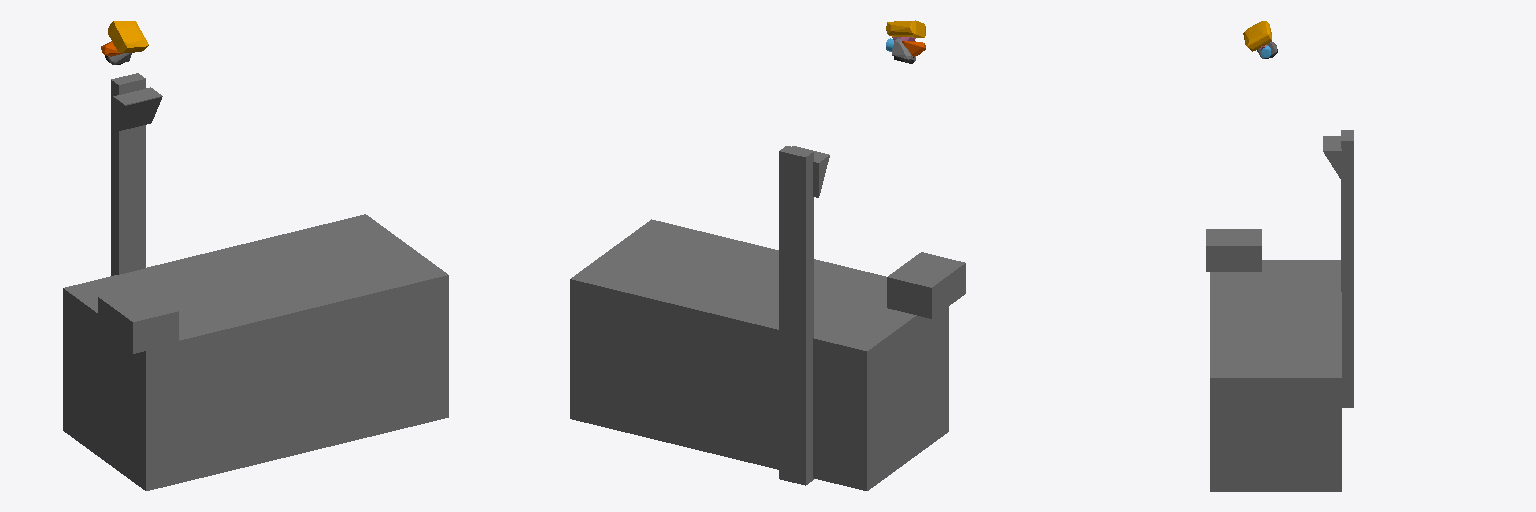
--- What the picture shows (computed from the rendered views, not written in the file) ---
Views: 3 orthographic renders of the robot side by side, from view 1: azimuth 30°, elevation 25°; view 2: azimuth 150°, elevation 25°; view 3: azimuth 270°, elevation 25°.
Robot: converging_polishing_workcell — 33 links, 32 joints (6 revolute, 26 fixed); root link world; default pose: every joint at zero.
Visible links, largest first — view 1: table, column, things_on_table, cuña_body, zivid_protective_housing; view 2: table, column, things_on_table, zivid_protective_housing, cuña_body; view 3: table, column, things_on_table, zivid_protective_housing, cuña_body.
Link boxes in pixels (<box>): table: <box>63,214,448,490</box>; column: <box>111,73,145,275</box>; things_on_table: <box>98,286,178,353</box>; cuña_body: <box>113,87,162,131</box>; zivid_protective_housing: <box>108,21,148,52</box>; table: <box>570,219,948,490</box>; column: <box>779,146,813,485</box>; things_on_table: <box>887,252,965,318</box>; zivid_protective_housing: <box>886,20,925,38</box>; cuña_body: <box>792,146,829,197</box>; table: <box>1210,260,1341,491</box>; column: <box>1341,130,1353,407</box>; things_on_table: <box>1206,229,1261,271</box>; zivid_protective_housing: <box>1243,21,1271,51</box>; cuña_body: <box>1323,136,1341,178</box>.
Bounding box of the posed robot: 2.1 × 1.06 × 2.82 m (x, y, z).
Meshes: 15 distinct files referenced, 8 mesh visuals loaded (8 binary STL); not drawn: 7 (reference not matched to a file when rendering).

The robot description file, URDF, robot "converging_polishing_workcell":
<?xml version="1.0" ?>
<!-- =================================================================================== -->
<!-- |    This document was autogenerated by xacro from /opt/ros/converging_noether_demo-noetic/share/converging_polishing_workcell/urdf/converging_polishing_workcell.xacro | -->
<!-- |    EDITING THIS FILE BY HAND IS NOT RECOMMENDED                                 | -->
<!-- =================================================================================== -->
<robot name="converging_polishing_workcell">
  <!-- <xacro:include filename="$(find robotnik_sensors)/urdf/intel_d435.urdf.xacro"/>
  <xacro:include filename="$(find robotnik_sensors)/urdf/utils/inertia.urdf.xacro"/>
  <xacro:include filename="$(find robotnik_sensors)/urdf/utils/material.urdf.xacro"/> -->
  <link name="world"/>
  <link name="table">
    <visual>
      <geometry>
        <box size="2.0 0.95 0.9"/>
      </geometry>
      <origin rpy="0 0 0" xyz="0.00 0.0 -0.45"/>
      <material name="gray">
        <color rgba="0.5 0.5 0.5 1"/>
      </material>
    </visual>
    <collision>
      <geometry>
        <box size="2.0 0.95 0.9"/>
      </geometry>
      <origin rpy="0 0 0" xyz="0.00 0.0 -0.45"/>
    </collision>
  </link>
  <link name="column">
    <visual>
      <geometry>
        <box size="0.18 0.09 2.11"/>
      </geometry>
      <origin rpy="0 0 0" xyz="0.00 -0.042 0.141"/>
      <material name="gray">
        <color rgba="0.5 0.5 0.5 1"/>
      </material>
    </visual>
    <collision>
      <geometry>
        <box size="0.18 0.09 2.11"/>
      </geometry>
      <origin rpy="0 0 0" xyz="0.00 -0.042 0.141"/>
    </collision>
  </link>
  <joint name="column" type="fixed">
    <parent link="table"/>
    <child link="column"/>
    <origin xyz="0.545 -.4725  0"/>
  </joint>
  <joint name="table" type="fixed">
    <parent link="world"/>
    <child link="table"/>
    <origin rpy="0 0 3.141592653589793" xyz="1.0030000000000001 0.41100000000000003 0"/>
  </joint>
  <joint name="cuña" type="fixed">
    <parent link="column"/>
    <child link="cuña_base_link"/>
    <!-- height of column - height from top of column to top of cuña -->
    <origin rpy="-1.5707963267948966 -1.5707963267948966 0" xyz="0 0 1.133"/>
  </joint>
  <link name="cuña_base_link"/>
  <link name="cuña_body">
    <visual>
      <geometry>
        <mesh filename="package://converging_polishing_workcell/meshes/collision/cuña.stl" scale="0.001 0.001 0.001"/>
      </geometry>
      <material name="gray">
        <color rgba="0.5 0.5 0.5 1"/>
      </material>
    </visual>
    <collision>
      <geometry>
        <mesh filename="package://converging_polishing_workcell/meshes/collision/cuña.stl" scale="0.001 0.001 0.001"/>
      </geometry>
    </collision>
    <inertial>
      <mass value="50.0"/>
      <inertia ixx="10.00" ixy="0.00" ixz="0.00" iyy="10.00" iyz="0.00" izz="10.00"/>
      <origin rpy="0 0 0" xyz="0.0 0.0 -0.5"/>
    </inertial>
  </link>
  <joint name="cuña_body" type="fixed">
    <parent link="cuña_base_link"/>
    <child link="cuña_body"/>
    <origin rpy="0 -1.5707963267948966 0" xyz="0 0 0"/>
  </joint>
  <link name="cuña_tool0"/>
  <joint name="cuña_tool0" type="fixed">
    <parent link="cuña_body"/>
    <child link="cuña_tool0"/>
    <origin rpy="0 1.0471975511965976 0" xyz="0.07250000000000001 0 0.11674682452694517"/>
  </joint>
  <!--
    Base UR robot series xacro macro.

    NOTE: this is NOT a URDF. It cannot directly be loaded by consumers
    expecting a flattened '.urdf' file. See the top-level '.xacro' for that
    (but note: that .xacro must still be processed by the xacro command).

    For use in '.launch' files: use one of the 'load_urX.launch' convenience
    launch files.

    This file models the base kinematic chain of a UR robot, which then gets
    parameterised by various configuration files to convert it into a UR3(e),
    UR5(e), UR10(e) or UR16e.

    NOTE: the default kinematic parameters (ie: link lengths, frame locations,
    offets, etc) do not correspond to any particular robot. They are defaults
    only. There WILL be non-zero offsets between the Forward Kinematics results
    in TF (ie: robot_state_publisher) and the values reported by the Teach
    Pendant.

    For accurate (and robot-specific) transforms, the 'kinematics_parameters_file'
    parameter MUST point to a .yaml file containing the appropriate values for
    the targetted robot.

    If using the UniversalRobots/Universal_Robots_ROS_Driver, follow the steps
    described in the readme of that repository to extract the kinematic
    calibration from the controller and generate the required .yaml file.

    Main author of the migration to yaml configs: Ludovic Delval.

    Contributors to previous versions (in no particular order):

     - Felix Messmer
     - Kelsey Hawkins
     - Wim Meeussen
     - Shaun Edwards
     - Nadia Hammoudeh Garcia
     - Dave Hershberger
     - G. vd. Hoorn
     - Philip Long
     - Dave Coleman
     - Miguel Prada
     - Mathias Luedtke
     - Marcel Schnirring
     - Felix von Drigalski
     - Felix Exner
     - Jimmy Da Silva
     - Ajit Krisshna N L
     - Muhammad Asif Rana
  -->
  <!--
    NOTE: the macro defined in this file is NOT part of the public API of this
          package. Users CANNOT rely on this file being available, or stored in
          this location. Nor can they rely on the existence of the macro.
  -->
  <transmission name="shoulder_pan_trans">
    <type>transmission_interface/SimpleTransmission</type>
    <joint name="shoulder_pan_joint">
      <hardwareInterface>hardware_interface/PositionJointInterface</hardwareInterface>
    </joint>
    <actuator name="shoulder_pan_motor">
      <mechanicalReduction>1</mechanicalReduction>
    </actuator>
  </transmission>
  <transmission name="shoulder_lift_trans">
    <type>transmission_interface/SimpleTransmission</type>
    <joint name="shoulder_lift_joint">
      <hardwareInterface>hardware_interface/PositionJointInterface</hardwareInterface>
    </joint>
    <actuator name="shoulder_lift_motor">
      <mechanicalReduction>1</mechanicalReduction>
    </actuator>
  </transmission>
  <transmission name="elbow_trans">
    <type>transmission_interface/SimpleTransmission</type>
    <joint name="elbow_joint">
      <hardwareInterface>hardware_interface/PositionJointInterface</hardwareInterface>
    </joint>
    <actuator name="elbow_motor">
      <mechanicalReduction>1</mechanicalReduction>
    </actuator>
  </transmission>
  <transmission name="wrist_1_trans">
    <type>transmission_interface/SimpleTransmission</type>
    <joint name="wrist_1_joint">
      <hardwareInterface>hardware_interface/PositionJointInterface</hardwareInterface>
    </joint>
    <actuator name="wrist_1_motor">
      <mechanicalReduction>1</mechanicalReduction>
    </actuator>
  </transmission>
  <transmission name="wrist_2_trans">
    <type>transmission_interface/SimpleTransmission</type>
    <joint name="wrist_2_joint">
      <hardwareInterface>hardware_interface/PositionJointInterface</hardwareInterface>
    </joint>
    <actuator name="wrist_2_motor">
      <mechanicalReduction>1</mechanicalReduction>
    </actuator>
  </transmission>
  <transmission name="wrist_3_trans">
    <type>transmission_interface/SimpleTransmission</type>
    <joint name="wrist_3_joint">
      <hardwareInterface>hardware_interface/PositionJointInterface</hardwareInterface>
    </joint>
    <actuator name="wrist_3_motor">
      <mechanicalReduction>1</mechanicalReduction>
    </actuator>
  </transmission>
  <!-- links: main serial chain -->
  <link name="base_link"/>
  <link name="base_link_inertia">
    <visual>
      <origin rpy="0 0 3.141592653589793" xyz="0 0 0"/>
      <geometry>
        <mesh filename="package://ur_description/meshes/ur10e/collision/base.stl"/>
      </geometry>
      <material name="LightGrey">
        <color rgba="0.7 0.7 0.7 1.0"/>
      </material>
    </visual>
    <collision>
      <origin rpy="0 0 3.141592653589793" xyz="0 0 0"/>
      <geometry>
        <mesh filename="package://ur_description/meshes/ur10e/collision/base.stl"/>
      </geometry>
    </collision>
    <inertial>
      <mass value="4.0"/>
      <origin rpy="0 0 0" xyz="0 0 0"/>
      <inertia ixx="0.0061063308908" ixy="0.0" ixz="0.0" iyy="0.0061063308908" iyz="0.0" izz="0.01125"/>
    </inertial>
  </link>
  <link name="shoulder_link">
    <visual>
      <origin rpy="0 0 3.141592653589793" xyz="0 0 0"/>
      <geometry>
        <mesh filename="package://ur_description/meshes/ur10e/collision/shoulder.stl"/>
      </geometry>
      <material name="LightGrey">
        <color rgba="0.7 0.7 0.7 1.0"/>
      </material>
    </visual>
    <collision>
      <origin rpy="0 0 3.141592653589793" xyz="0 0 0"/>
      <geometry>
        <mesh filename="package://ur_description/meshes/ur10e/collision/shoulder.stl"/>
      </geometry>
    </collision>
    <inertial>
      <mass value="7.369"/>
      <origin rpy="0 0 0" xyz="0 0 0"/>
      <inertia ixx="0.029819260655624295" ixy="0.0" ixz="0.0" iyy="0.029819260655624295" iyz="0.0" izz="0.020725312499999995"/>
    </inertial>
  </link>
  <link name="upper_arm_link">
    <visual>
      <origin rpy="1.5707963267948966 0 -1.5707963267948966" xyz="0 0 0.176"/>
      <geometry>
        <mesh filename="package://ur_description/meshes/ur16e/collision/upperarm.stl"/>
      </geometry>
      <material name="LightGrey">
        <color rgba="0.7 0.7 0.7 1.0"/>
      </material>
    </visual>
    <collision>
      <origin rpy="1.5707963267948966 0 -1.5707963267948966" xyz="0 0 0.176"/>
      <geometry>
        <mesh filename="package://ur_description/meshes/ur16e/collision/upperarm.stl"/>
      </geometry>
    </collision>
    <inertial>
      <mass value="10.45"/>
      <origin rpy="0 1.5707963267948966 0" xyz="-0.2392 0.0 0.175"/>
      <inertia ixx="0.21399985623335657" ixy="0.0" ixz="0.0" iyy="0.21399985623335657" iyz="0.0" izz="0.029390624999999997"/>
    </inertial>
  </link>
  <link name="forearm_link">
    <visual>
      <origin rpy="1.5707963267948966 0 -1.5707963267948966" xyz="0 0 0.04"/>
      <geometry>
        <mesh filename="package://ur_description/meshes/ur16e/collision/forearm.stl"/>
      </geometry>
      <material name="LightGrey">
        <color rgba="0.7 0.7 0.7 1.0"/>
      </material>
    </visual>
    <collision>
      <origin rpy="1.5707963267948966 0 -1.5707963267948966" xyz="0 0 0.04"/>
      <geometry>
        <mesh filename="package://ur_description/meshes/ur16e/collision/forearm.stl"/>
      </geometry>
    </collision>
    <inertial>
      <mass value="4.321"/>
      <origin rpy="0 1.5707963267948966 0" xyz="-0.18 0.0 0.04"/>
      <inertia ixx="0.052743185152717496" ixy="0.0" ixz="0.0" iyy="0.052743185152717496" iyz="0.0" izz="0.012152812499999997"/>
    </inertial>
  </link>
  <link name="wrist_1_link">
    <visual>
      <!-- TODO: Move this to a parameter -->
      <origin rpy="1.5707963267948966 0 0" xyz="0 0 -0.135"/>
      <geometry>
        <mesh filename="package://ur_description/meshes/ur10e/collision/wrist1.stl"/>
      </geometry>
      <material name="LightGrey">
        <color rgba="0.7 0.7 0.7 1.0"/>
      </material>
    </visual>
    <collision>
      <origin rpy="1.5707963267948966 0 0" xyz="0 0 -0.135"/>
      <geometry>
        <mesh filename="package://ur_description/meshes/ur10e/collision/wrist1.stl"/>
      </geometry>
    </collision>
    <inertial>
      <mass value="2.18"/>
      <origin rpy="0 0 0" xyz="0 0 0"/>
      <inertia ixx="0.0056816227273499996" ixy="0.0" ixz="0.0" iyy="0.0056816227273499996" iyz="0.0" izz="0.00613125"/>
    </inertial>
  </link>
  <link name="wrist_2_link">
    <visual>
      <origin rpy="0 0 0" xyz="0 0 -0.12"/>
      <geometry>
        <mesh filename="package://ur_description/meshes/ur10e/collision/wrist2.stl"/>
      </geometry>
      <material name="LightGrey">
        <color rgba="0.7 0.7 0.7 1.0"/>
      </material>
    </visual>
    <collision>
      <origin rpy="0 0 0" xyz="0 0 -0.12"/>
      <geometry>
        <mesh filename="package://ur_description/meshes/ur10e/collision/wrist2.stl"/>
      </geometry>
    </collision>
    <inertial>
      <mass value="2.033"/>
      <origin rpy="0 0 0" xyz="0 0 0"/>
      <inertia ixx="0.0052985041305975" ixy="0.0" ixz="0.0" iyy="0.0052985041305975" iyz="0.0" izz="0.0057178125"/>
    </inertial>
  </link>
  <link name="wrist_3_link">
    <visual>
      <origin rpy="1.5707963267948966 0 0" xyz="0 0 -0.1168"/>
      <geometry>
        <mesh filename="package://ur_description/meshes/ur10e/collision/wrist3.stl"/>
      </geometry>
      <material name="LightGrey">
        <color rgba="0.7 0.7 0.7 1.0"/>
      </material>
    </visual>
    <collision>
      <origin rpy="1.5707963267948966 0 0" xyz="0 0 -0.1168"/>
      <geometry>
        <mesh filename="package://ur_description/meshes/ur10e/collision/wrist3.stl"/>
      </geometry>
    </collision>
    <inertial>
      <mass value="0.907"/>
      <origin rpy="0 0 0" xyz="0.0 0.0 -0.025"/>
      <inertia ixx="0.0006481268240825001" ixy="0.0" ixz="0.0" iyy="0.0006481268240825001" iyz="0.0" izz="0.0009183374999999999"/>
    </inertial>
  </link>
  <!-- joints: main serial chain -->
  <joint name="base_link-base_link_inertia" type="fixed">
    <parent link="base_link"/>
    <child link="base_link_inertia"/>
    <!-- 'base_link' is REP-103 aligned (so X+ forward), while the internal
           frames of the robot/controller have X+ pointing backwards.
           Use the joint between 'base_link' and 'base_link_inertia' (a dummy
           link/frame) to introduce the necessary rotation over Z (of pi rad).
      -->
    <origin rpy="0 0 3.141592653589793" xyz="0 0 0"/>
  </joint>
  <joint name="shoulder_pan_joint" type="revolute">
    <parent link="base_link_inertia"/>
    <child link="shoulder_link"/>
    <origin rpy="0 0 -2.822348106543138e-07" xyz="0 0 0.1809007326690537"/>
    <axis xyz="0 0 1"/>
    <limit effort="330.0" lower="-3.490658503988659" upper="3.490658503988659" velocity="2.0943951023931953"/>
    <dynamics damping="0" friction="0"/>
  </joint>
  <joint name="shoulder_lift_joint" type="revolute">
    <parent link="shoulder_link"/>
    <child link="upper_arm_link"/>
    <origin rpy="1.571090054964591 0 -1.942932784399954e-06" xyz="0.0001707247303410888 0 0"/>
    <axis xyz="0 0 1"/>
    <limit effort="330.0" lower="-4.71238898038469" upper="1.5707963267948966" velocity="2.0943951023931953"/>
    <dynamics damping="0" friction="0"/>
  </joint>
  <joint name="elbow_joint" type="revolute">
    <parent link="upper_arm_link"/>
    <child link="forearm_link"/>
    <origin rpy="3.141100797874045 -3.139778714510265 -3.141588063772322" xyz="-0.4781972217758275 0 0"/>
    <axis xyz="0 0 1"/>
    <limit effort="150.0" lower="-3.141592653589793" upper="3.141592653589793" velocity="3.141592653589793"/>
    <dynamics damping="0" friction="0"/>
  </joint>
  <joint name="wrist_1_joint" type="revolute">
    <parent link="forearm_link"/>
    <child link="wrist_1_link"/>
    <origin rpy="0.005293674345160438 0.001470478723854599 -9.304969222818502e-06" xyz="-0.3598771763408388 -0.0009172308826420315 0.1732676124315309"/>
    <axis xyz="0 0 1"/>
    <limit effort="56.0" lower="-3.490658503988659" upper="3.490658503988659" velocity="3.141592653589793"/>
    <dynamics damping="0" friction="0"/>
  </joint>
  <joint name="wrist_2_joint" type="revolute">
    <parent link="wrist_1_link"/>
    <child link="wrist_2_link"/>
    <origin rpy="1.568926004752046 0 1.385827384008109e-06" xyz="0.0001656662300944413 -0.1197860097975219 0.000224038675786347"/>
    <axis xyz="0 0 1"/>
    <limit effort="56.0" lower="-3.490658503988659" upper="3.490658503988659" velocity="3.141592653589793"/>
    <dynamics damping="0" friction="0"/>
  </joint>
  <joint name="wrist_3_joint" type="revolute">
    <parent link="wrist_2_link"/>
    <child link="wrist_3_link"/>
    <origin rpy="1.570746071216452 3.141592653589793 3.141592624949271" xyz="-4.282547685928057e-05 0.1155358116742619 -5.80631905160188e-06"/>
    <axis xyz="0 0 1"/>
    <limit effort="56.0" lower="-6.283185307179586" upper="6.283185307179586" velocity="3.141592653589793"/>
    <dynamics damping="0" friction="0"/>
  </joint>
  <!-- ROS-Industrial 'base' frame: base_link to UR 'Base' Coordinates transform -->
  <link name="base"/>
  <joint name="base_link-base_fixed_joint" type="fixed">
    <!-- Note the rotation over Z of pi radians: as base_link is REP-103
           aligned (ie: has X+ forward, Y+ left and Z+ up), this is needed
           to correctly align 'base' with the 'Base' coordinate system of
           the UR controller.
      -->
    <origin rpy="0 0 3.141592653589793" xyz="0 0 0"/>
    <parent link="base_link"/>
    <child link="base"/>
  </joint>
  <!-- ROS-Industrial 'flange' frame: attachment point for EEF models -->
  <link name="flange"/>
  <joint name="wrist_3-flange" type="fixed">
    <parent link="wrist_3_link"/>
    <child link="flange"/>
    <origin rpy="0 -1.5707963267948966 -1.5707963267948966" xyz="0 0 0"/>
  </joint>
  <!-- ROS-Industrial 'tool0' frame: all-zeros tool frame -->
  <link name="tool0"/>
  <joint name="flange-tool0" type="fixed">
    <!-- default toolframe: X+ left, Y+ up, Z+ front -->
    <origin rpy="1.5707963267948966 0 1.5707963267948966" xyz="0 0 0"/>
    <parent link="flange"/>
    <child link="tool0"/>
  </joint>
  <joint name="ur" type="fixed">
    <parent link="cuña_tool0"/>
    <child link="base_link"/>
    <origin rpy="0 0 0" xyz="0 0 0"/>
  </joint>
  <link name="zivid_extender_base_link">
    <visual>
      <geometry>
        <mesh filename="package://converging_polishing_workcell/meshes/collision/Zivid_mount_extender_OA01E.stl"/>
      </geometry>
    </visual>
    <collision>
      <geometry>
        <mesh filename="package://converging_polishing_workcell/meshes/collision/Zivid_mount_extender_OA01E.stl"/>
      </geometry>
    </collision>
  </link>
  <link name="zivid_extender_tool0"/>
  <joint name="zivid_extender_tool0" type="fixed">
    <parent link="zivid_extender_base_link"/>
    <child link="zivid_extender_tool0"/>
    <origin xyz="0 0 0.072"/>
  </joint>
  <joint name="extender" type="fixed">
    <parent link="tool0"/>
    <child link="zivid_extender_base_link"/>
  </joint>
  <link name="mount_base_link">
    <visual>
      <geometry>
        <mesh filename="package://converging_polishing_workcell/meshes/collision/converging_mount.stl"/>
      </geometry>
      <material name="gray">
        <color rgba="0.5 0.5 0.5 1"/>
      </material>
    </visual>
    <collision>
      <geometry>
        <mesh filename="package://converging_polishing_workcell/meshes/collision/converging_mount.stl"/>
      </geometry>
    </collision>
  </link>
  <link name="mount_tool0"/>
  <joint name="mount_tool0" type="fixed">
    <parent link="mount_base_link"/>
    <child link="mount_tool0"/>
    <origin xyz="0 0 0.0125"/>
  </joint>
  <link name="mount_tool1"/>
  <joint name="mount_tool1" type="fixed">
    <parent link="mount_base_link"/>
    <child link="mount_tool1"/>
    <origin rpy="-1.5707963267948966 0 0" xyz="0 0.049 0.044"/>
  </joint>
  <joint name="mount" type="fixed">
    <parent link="zivid_extender_tool0"/>
    <child link="mount_base_link"/>
    <origin rpy="0 0 -1.5707963267948966" xyz="0 0 0"/>
  </joint>
  <link name="zivid_base_link">
    <visual>
      <geometry>
        <mesh filename="package://converging_polishing_workcell/meshes/collision/Zivid_mount_OA121.stl"/>
      </geometry>
    </visual>
    <collision>
      <geometry>
        <mesh filename="package://converging_polishing_workcell/meshes/collision/Zivid_mount_OA121.stl"/>
      </geometry>
    </collision>
  </link>
  <link name="zivid_tool0"/>
  <joint name="zivid_tool0" type="fixed">
    <parent link="zivid_base_link"/>
    <child link="zivid_tool0"/>
    <origin rpy="0 0 0" xyz="0 0 0.0125"/>
  </joint>
  <link name="zivid_protective_housing">
    <visual>
      <geometry>
        <mesh filename="package://converging_polishing_workcell/meshes/collision/ZividTwo_protective_housing.stl"/>
      </geometry>
    </visual>
    <collision>
      <geometry>
        <mesh filename="package://converging_polishing_workcell/meshes/collision/ZividTwo_protective_housing.stl"/>
      </geometry>
    </collision>
  </link>
  <joint name="zivid_protective_housing" type="fixed">
    <parent link="zivid_base_link"/>
    <child link="zivid_protective_housing"/>
    <origin rpy="-1.8325957145940461 0 0" xyz="0 0.0742 0.0225"/>
  </joint>
  <link name="zivid_camera">
    <visual>
      <geometry>
        <mesh filename="package://converging_polishing_workcell/meshes/collision/ZividTwo.stl"/>
      </geometry>
    </visual>
    <collision>
      <geometry>
        <mesh filename="package://converging_polishing_workcell/meshes/collision/ZividTwo.stl"/>
      </geometry>
    </collision>
  </link>
  <joint name="zivid_camera" type="fixed">
    <parent link="zivid_protective_housing"/>
    <child link="zivid_camera"/>
    <origin rpy="0 0 0" xyz="0 0 0.01"/>
  </joint>
  <link name="zivid_optical_frame"/>
  <joint name="{prefix}optical_frame" type="fixed">
    <parent link="zivid_camera"/>
    <child link="zivid_optical_frame"/>
    <!-- Values from https://support.zivid.com/en/latest/reference-articles/camera-coordinate-system.html -->
    <origin rpy="-1.5707963267948966 0 3.141592653589793" xyz="0.05584 -0.02302 0.0295"/>
  </joint>
  <joint name="zivid" type="fixed">
    <parent link="mount_tool0"/>
    <child link="zivid_base_link"/>
    <origin rpy="0 0 3.141592653589793" xyz="0 0 0"/>
  </joint>
  <link name="acople_base_link">
    <visual>
      <geometry>
        <mesh filename="package://converging_polishing_workcell/meshes/collision/acople_mirka_ur.stl"/>
      </geometry>
      <material name="color">
        <color rgba="0.2 0.2 0.2 1"/>
      </material>
    </visual>
    <collision>
      <geometry>
        <mesh filename="package://converging_polishing_workcell/meshes/collision/acople_mirka_ur.stl"/>
      </geometry>
    </collision>
  </link>
  <link name="acople_tool0"/>
  <joint name="acople_tool0" type="fixed">
    <parent link="acople_base_link"/>
    <child link="acople_tool0"/>
    <origin xyz="0 0 0.0185"/>
  </joint>
  <joint name="acople" type="fixed">
    <parent link="mount_tool1"/>
    <child link="acople_base_link"/>
    <origin rpy="0 0 3.141592653589793" xyz="0 0 0"/>
  </joint>
  <link name="mirka_base_link">
    <visual>
      <geometry>
        <mesh filename="package://mirka_description/meshes/collision/airos-150nv.stl"/>
      </geometry>
    </visual>
    <collision>
      <geometry>
        <mesh filename="package://mirka_description/meshes/collision/airos-150nv.stl"/>
      </geometry>
    </collision>
  </link>
  <link name="mirka_tool0"/>
  <joint name="mirka_tool0" type="fixed">
    <parent link="mirka_base_link"/>
    <origin rpy="0 0 0" xyz="0 0 0.107 "/>
    <child link="mirka_tool0"/>
  </joint>
  <joint name="mirka" type="fixed">
    <parent link="acople_tool0"/>
    <child link="mirka_base_link"/>
  </joint>
  <link name="things_on_table">
    <visual>
      <geometry>
        <box size="0.3 0.4 0.2"/>
      </geometry>
      <material name="gray">
        <color rgba="0.5 0.5 0.5 1"/>
      </material>
    </visual>
    <collision>
      <geometry>
        <box size="0.3 0.4 0.2"/>
      </geometry>
    </collision>
  </link>
  <joint name="things" type="fixed">
    <parent link="table"/>
    <child link="things_on_table"/>
    <origin rpy="0 0 0.0" xyz="0.95 0.3 0.1"/>
  </joint>
  <!-- plane calibrated using the ur with origin in 45cm,45cm of the grid on the table
    moved other things around to make the world frame equal the grid on the table-->
  <link name="calibrated_table"/>
  <joint name="table_calibration" type="fixed">
    <parent link="base"/>
    <child link="calibrated_table"/>
    <origin rpy="2.0943951023931953 0 -1.5707963267948966" xyz="0.69992 -0.00844 0.82107"/>
  </joint>
  <!-- tool calibrated using the ur-->
  <!-- <link name="mirka_tool0"/>
  <joint name="mirka_calibration" type="fixed">
    <parent link="tool0"/>
    <child link="mirka_tool0" />
    <origin xyz="0.096 0.091 0.104" rpy="${radians(-172.041)} ${radians(-89.998)} ${radians(37.043)}" />
  </joint> -->
</robot>
